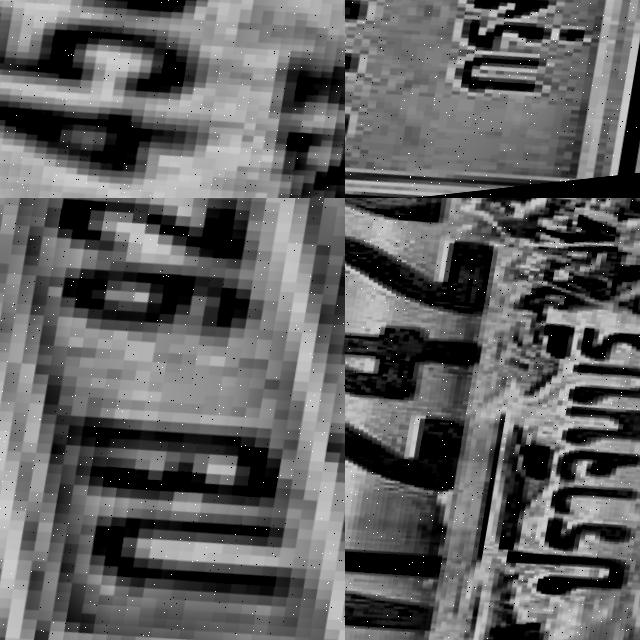license-plate: (0, 198, 345, 640), (345, 198, 640, 640), (0, 0, 345, 198), (345, 0, 640, 198)
